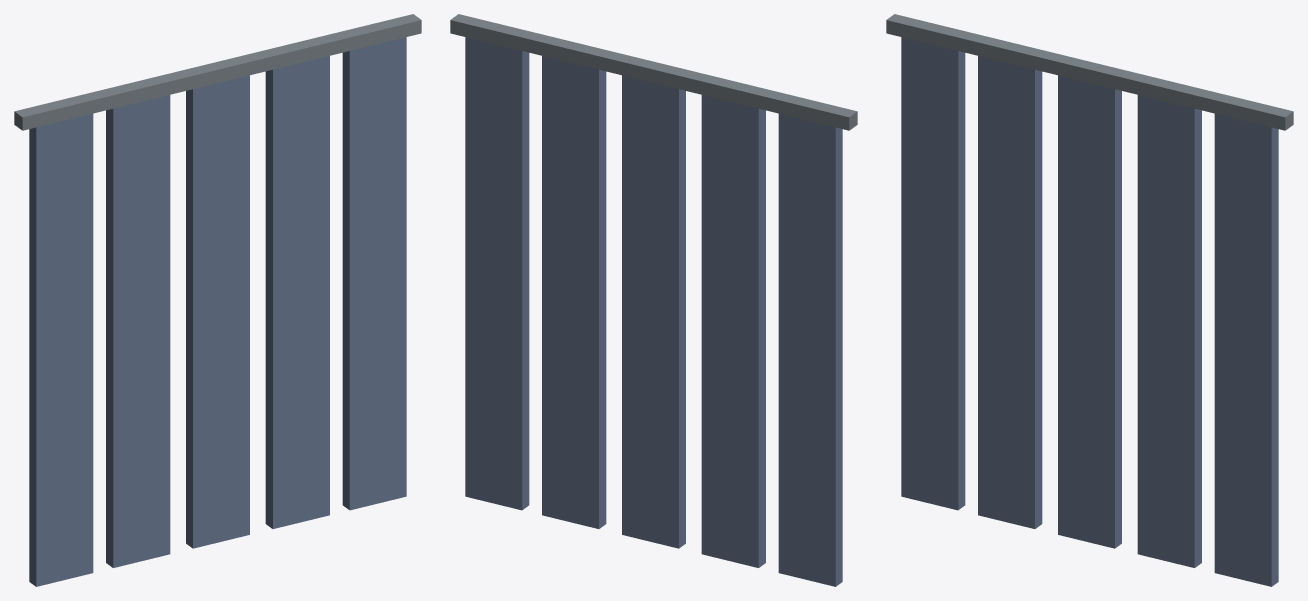
Rendered from CLS-013.glb.
3 renders of one model, left to right at view 1: azimuth 30°, elevation 25°; view 2: azimuth 150°, elevation 25°; view 3: azimuth 330°, elevation 25°, orthographic.
Parts seen in each view (by area): view 1: 001_Fabric_fold, 002_Fabric_fold, 004_Fabric_fold, 005_Fabric_fold, 003_Fabric_fold, 000_Curtain_rail; view 2: 001_Fabric_fold, 002_Fabric_fold, 004_Fabric_fold, 005_Fabric_fold, 003_Fabric_fold, 000_Curtain_rail; view 3: 005_Fabric_fold, 004_Fabric_fold, 001_Fabric_fold, 002_Fabric_fold, 003_Fabric_fold, 000_Curtain_rail.
Boxes of the visible parts, bbox=[...] form: 001_Fabric_fold: bbox=[29, 113, 93, 586]; 002_Fabric_fold: bbox=[106, 95, 170, 567]; 004_Fabric_fold: bbox=[265, 56, 329, 528]; 005_Fabric_fold: bbox=[342, 37, 406, 510]; 003_Fabric_fold: bbox=[186, 75, 249, 548]; 000_Curtain_rail: bbox=[14, 14, 421, 130]; 001_Fabric_fold: bbox=[778, 113, 842, 586]; 002_Fabric_fold: bbox=[701, 95, 765, 567]; 004_Fabric_fold: bbox=[542, 56, 606, 528]; 005_Fabric_fold: bbox=[465, 37, 529, 510]; 003_Fabric_fold: bbox=[622, 75, 685, 548]; 000_Curtain_rail: bbox=[450, 14, 857, 130]; 005_Fabric_fold: bbox=[1214, 113, 1278, 586]; 004_Fabric_fold: bbox=[1137, 95, 1201, 567]; 001_Fabric_fold: bbox=[901, 37, 965, 510]; 002_Fabric_fold: bbox=[978, 56, 1042, 528]; 003_Fabric_fold: bbox=[1058, 75, 1121, 548]; 000_Curtain_rail: bbox=[886, 14, 1293, 130].
Size of the model in its own units: 1.4 by 1.59 by 0.05.
